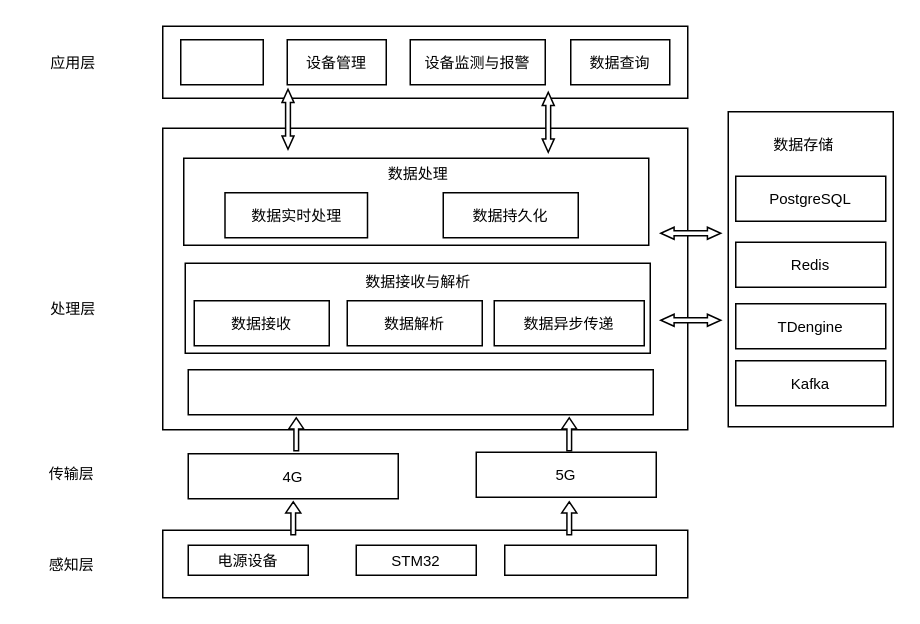
Some shapes in this 920 by 624 pixel diagram are drawn without their labels. Here are the shapes that lost their labels. From the top down, the centre of each, then its label:
At (221,61): "用户管理".
At (420,391): "负载均衡".
At (579,559): "移动通信模组".
